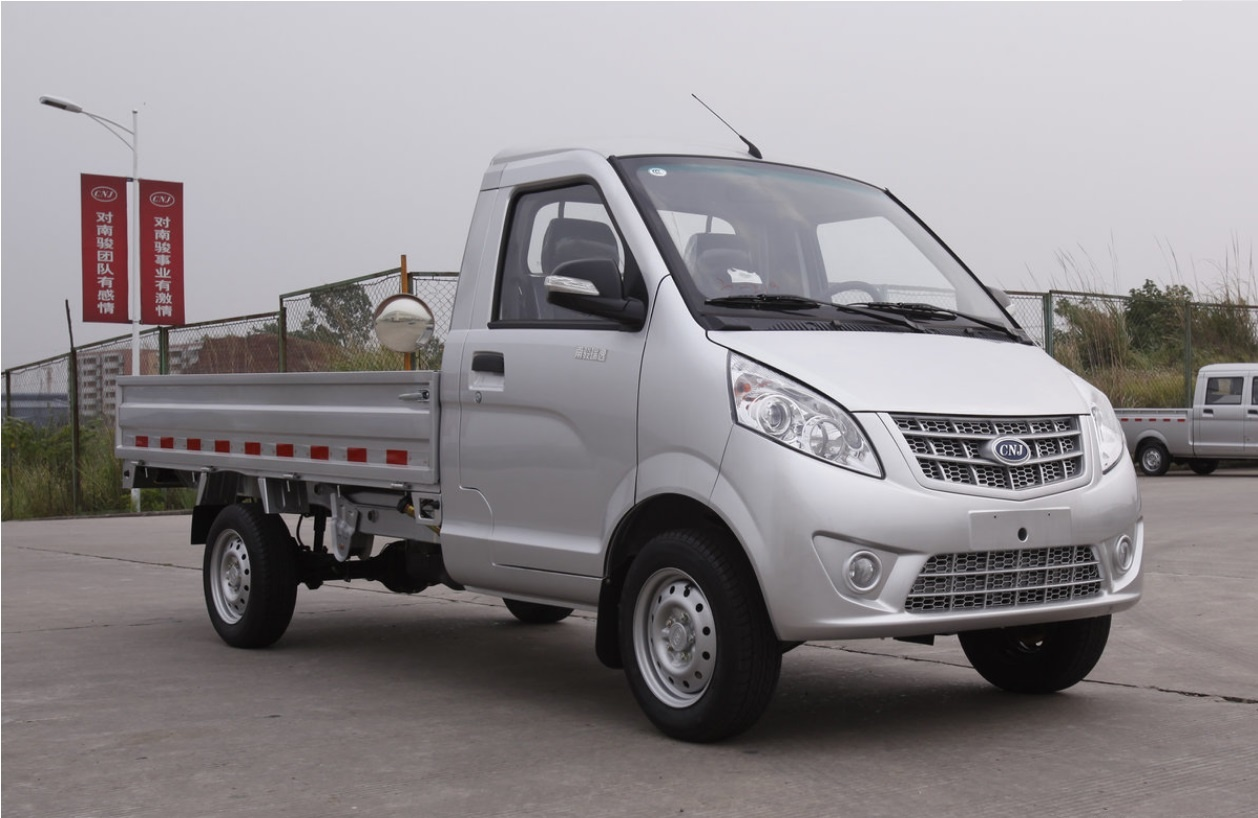truck: (129, 173, 1141, 705)
